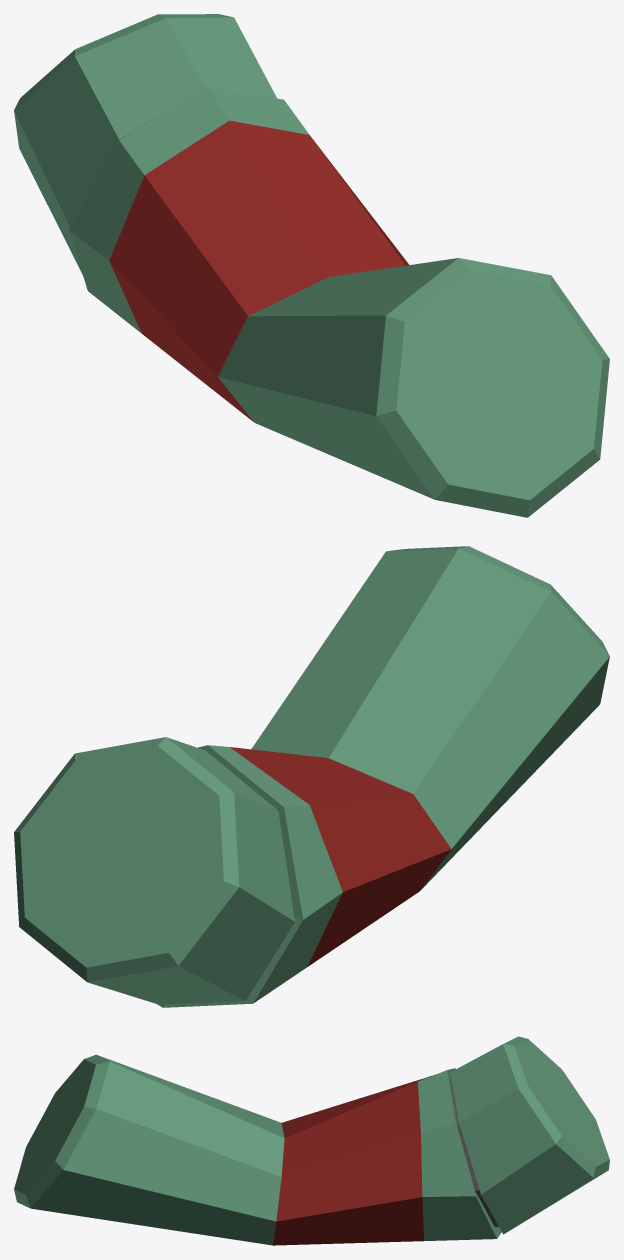
Rendered from spray.gltf.
The picture shows the model from 3 angles, top to bottom: view 1: azimuth 30°, elevation 25°; view 2: azimuth 150°, elevation 25°; view 3: azimuth 270°, elevation 25°; orthographic projection. The views are drawn at different scales.
Visible parts, largest first — view 1: Cylinder006, Cylinder006_1; view 2: Cylinder006, Cylinder006_1; view 3: Cylinder006, Cylinder006_1, Cylinder006_2.
Boxes of the visible parts, x1,y1,x2,y2 form: Cylinder006: (14, 14, 609, 517); Cylinder006_1: (109, 120, 408, 421); Cylinder006: (14, 546, 609, 1007); Cylinder006_1: (230, 747, 451, 966); Cylinder006: (14, 1036, 609, 1245); Cylinder006_1: (273, 1079, 424, 1245); Cylinder006_2: (450, 1078, 498, 1226).
Size of the model in its own units: 0.7038 by 0.8036 by 2.31.
